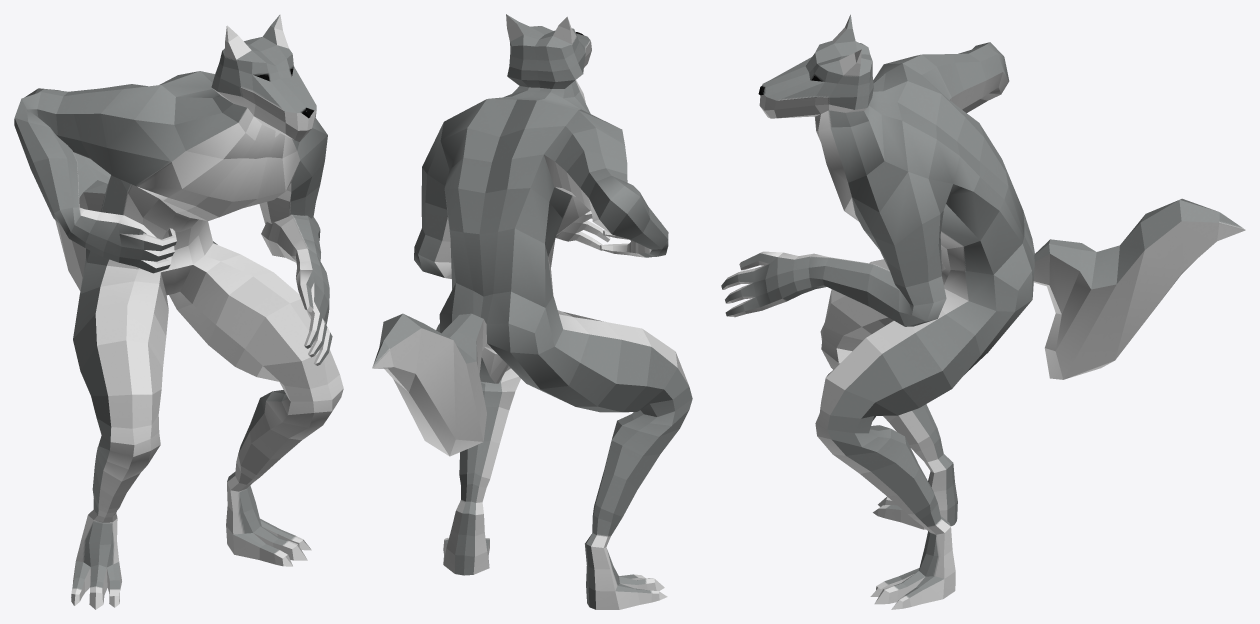
Rendered from WolfIdle_(33).obj.
The picture shows the model from 3 angles, left to right: view 1: azimuth 30°, elevation 25°; view 2: azimuth 150°, elevation 25°; view 3: azimuth 270°, elevation 25°; orthographic projection. The views are drawn at different scales.
Visible parts, largest first — view 1: Box001; view 2: Box001; view 3: Box001.
Part boxes in pixels (x1,y1,x2,y2): Box001: [14, 14, 343, 609]; Box001: [372, 14, 692, 609]; Box001: [721, 14, 1245, 609].
Size of the model in its own units: 65.65 by 133 by 115.
